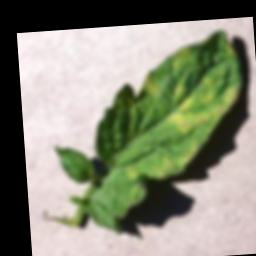Leaf_Mold: (113, 27, 250, 199)
